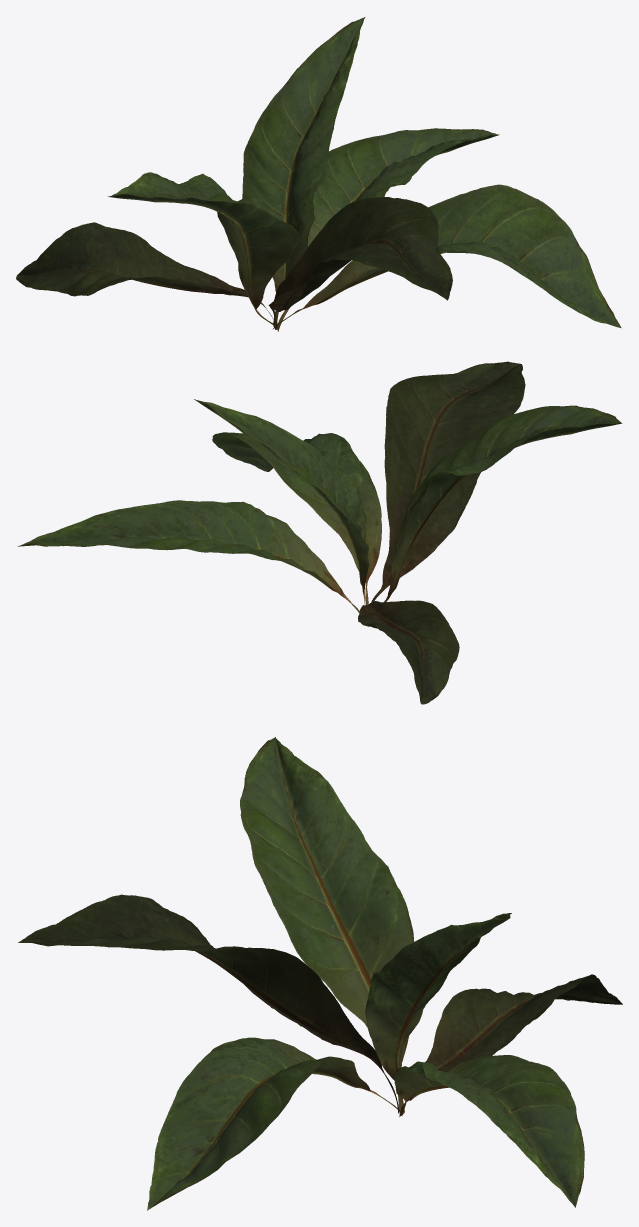
The model's file is anthurium_botany_01_03.glb.
3 views of the same model, one above another, from view 1: azimuth 30°, elevation 25°; view 2: azimuth 150°, elevation 25°; view 3: azimuth 270°, elevation 25° (orthographic). The views are drawn at different scales.
Parts seen in each view (by area): view 1: anthurium_botany_01; view 2: anthurium_botany_01; view 3: anthurium_botany_01.
Boxes of the visible parts, x1,y1,x2,y2 form: anthurium_botany_01: (16,17,621,331); anthurium_botany_01: (17,361,622,704); anthurium_botany_01: (18,737,622,1210).
Bounding box in the file's own units: 0.3132 × 0.1395 × 0.2787.
Materials: 1 (1 with a texture image).
